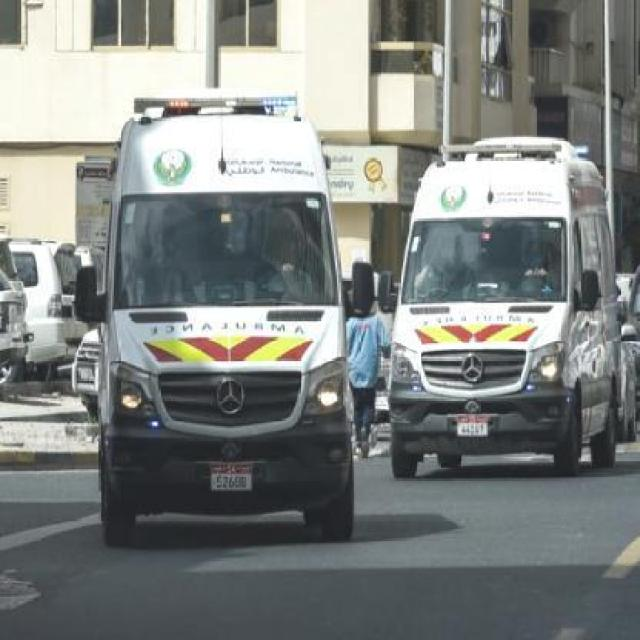Ambulance: (84, 79, 355, 543), (376, 105, 630, 476)
